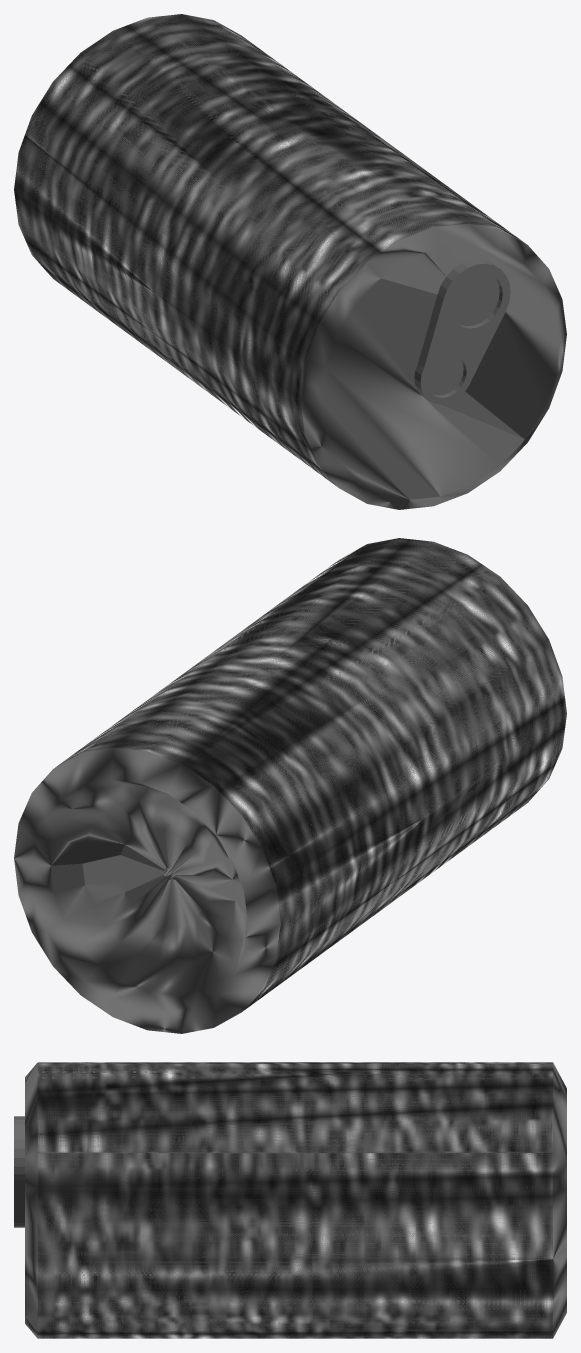
File: model_align.obj
The picture shows the model from 3 angles, top to bottom: view 1: azimuth 30°, elevation 25°; view 2: azimuth 150°, elevation 25°; view 3: azimuth 270°, elevation 25°; orthographic projection. The views are drawn at different scales.
Bounding box in the file's own units: 0.0665 × 0.0665 × 0.1326.
